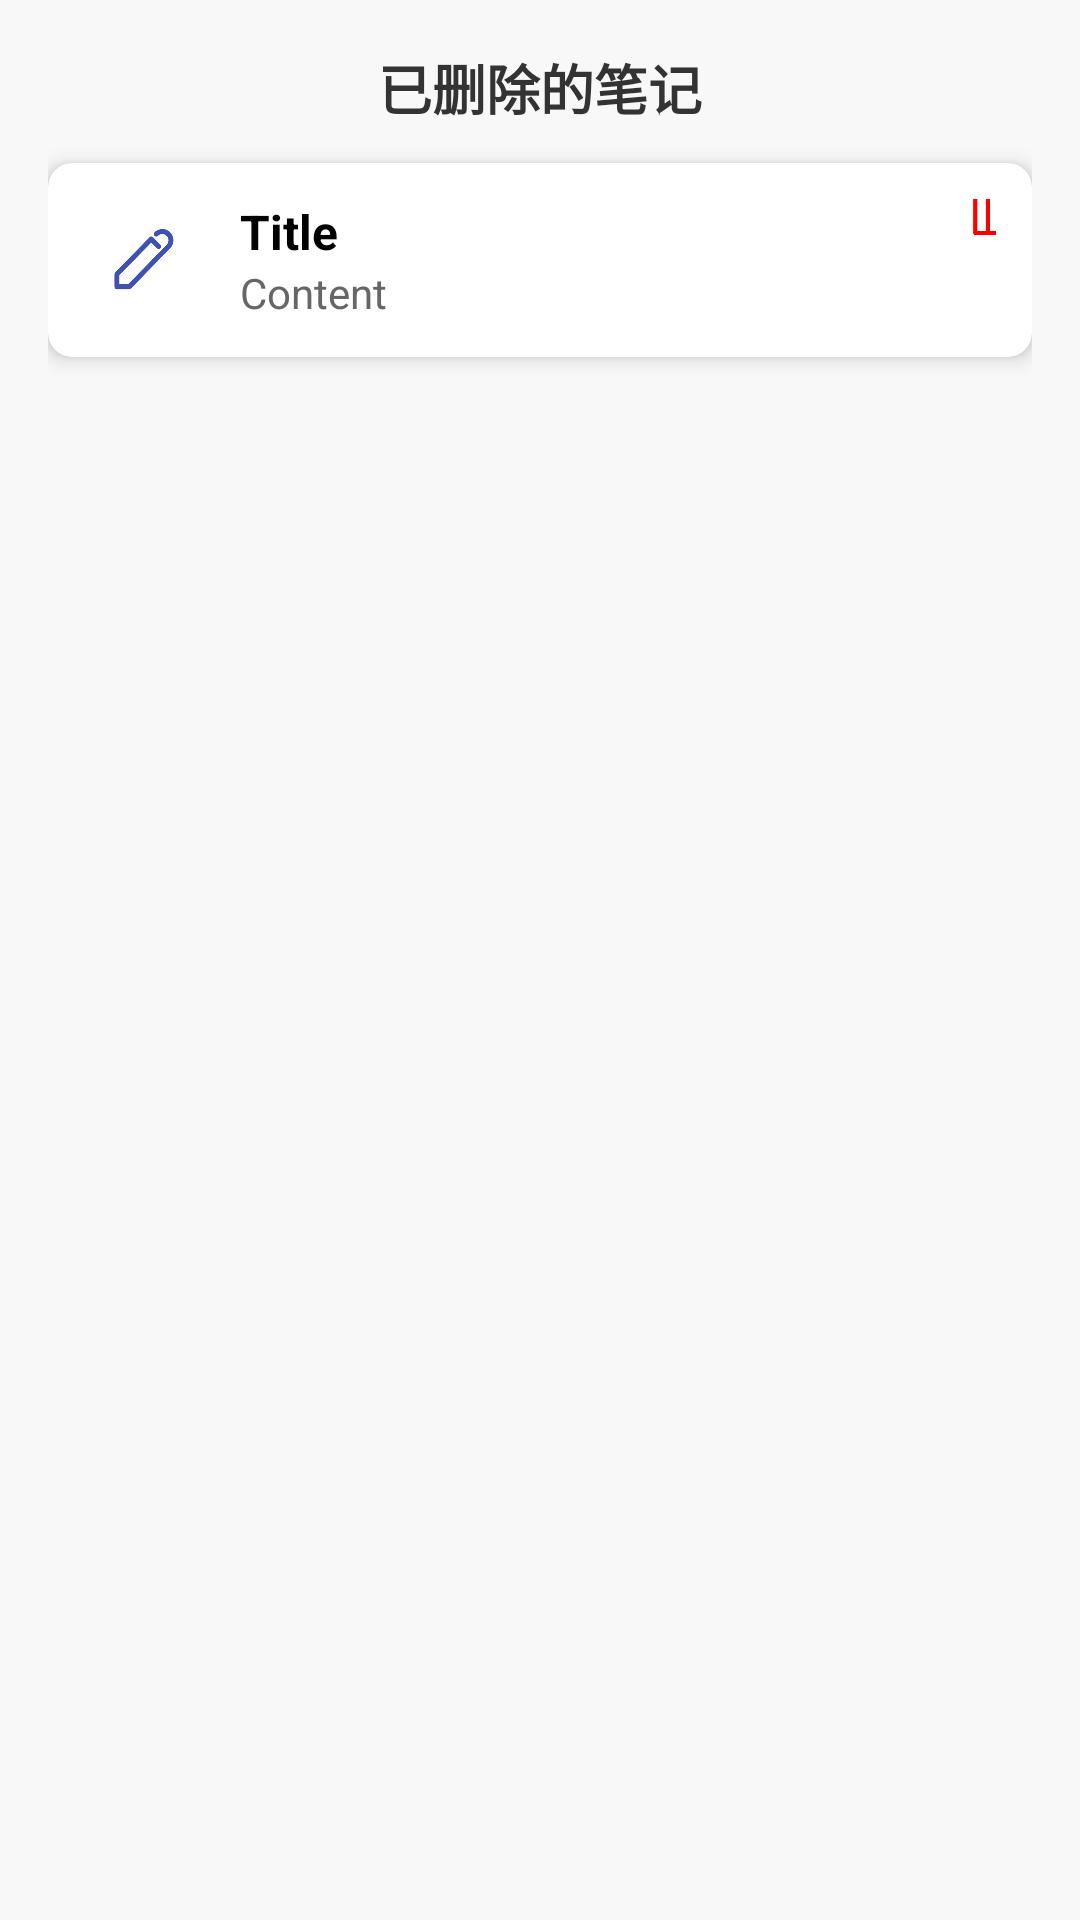

Point at icon controls on the screen. Image size 1080x1920, points as [x,y].
Note Icon: [144,259]
